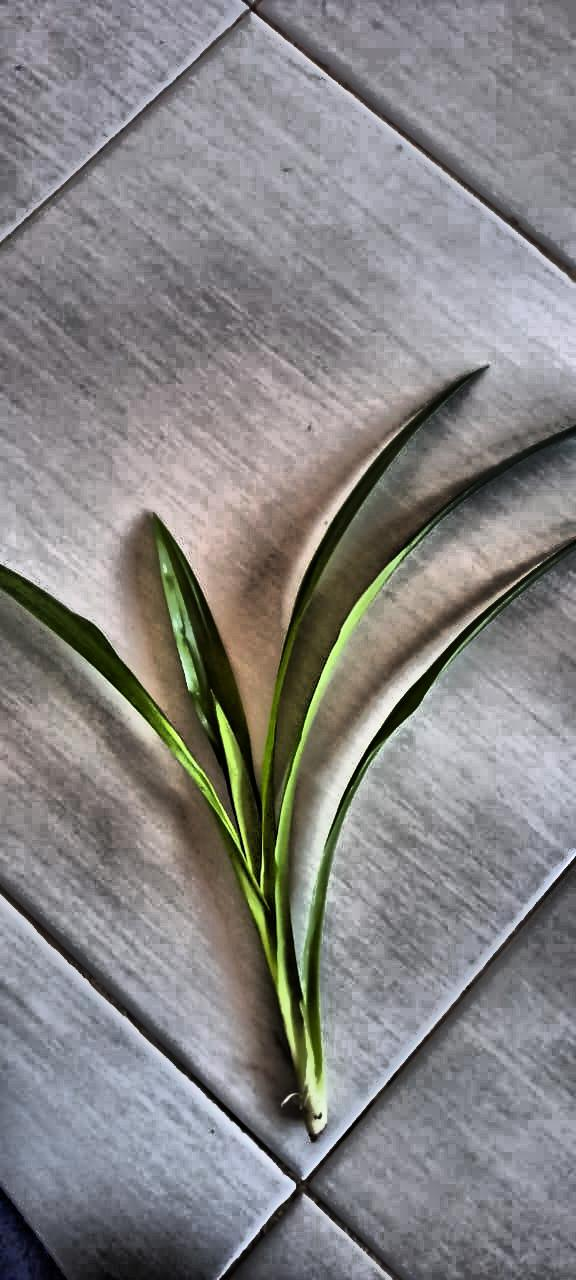daun pandan: (0, 371, 575, 1140)
